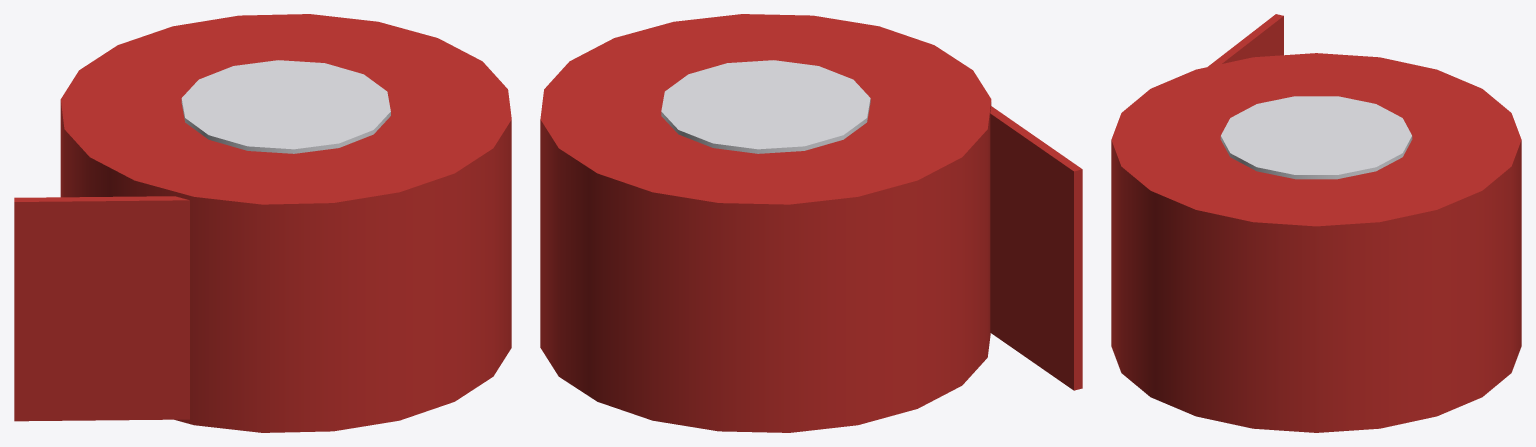
The model's file is fita_lacre.obj.
3 renders of one model, left to right at view 1: azimuth 30°, elevation 25°; view 2: azimuth 150°, elevation 25°; view 3: azimuth 270°, elevation 25°, orthographic. The views are drawn at different scales.
Parts seen in each view (by area): view 1: fita_lacre; view 2: fita_lacre; view 3: fita_lacre.
Part boxes in pixels (box(x1,y1,x2,y2)): fita_lacre: box(14, 14, 511, 432); fita_lacre: box(540, 14, 1082, 432); fita_lacre: box(1111, 14, 1521, 432).
Bounding box in the file's own units: 0.1124 × 0.052 × 0.09.
